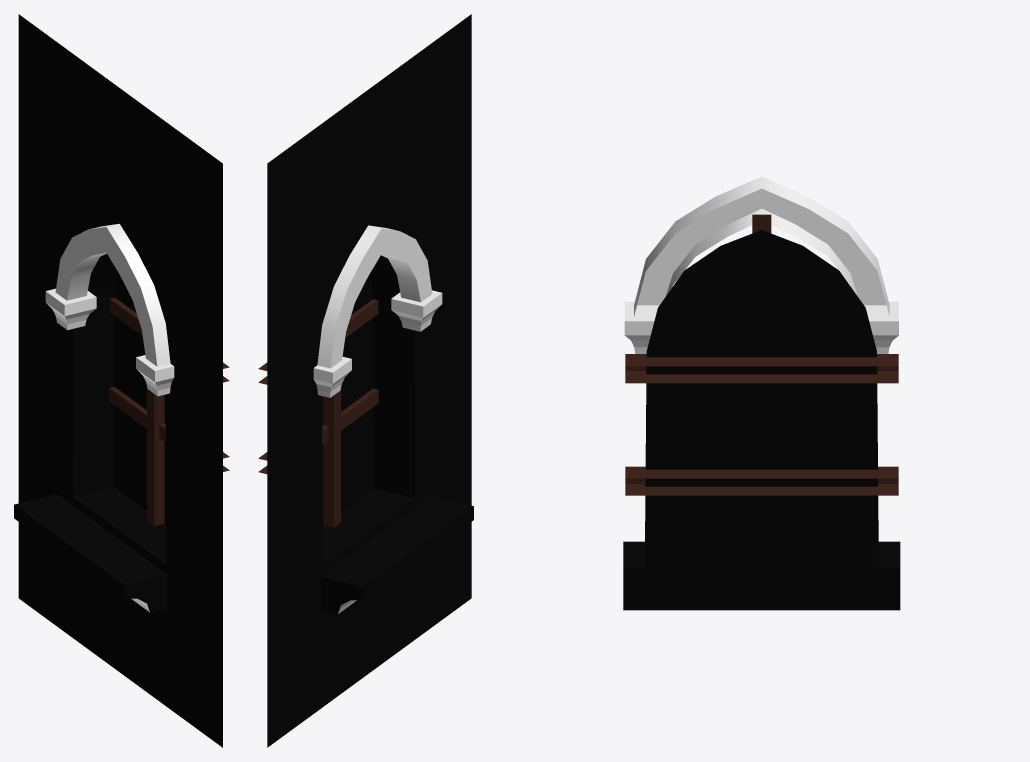
File: standard_window_17.FBX
The picture shows the model from 3 angles, left to right: view 1: azimuth 30°, elevation 25°; view 2: azimuth 150°, elevation 25°; view 3: azimuth 270°, elevation 25°; orthographic projection. The views are drawn at different scales.
Visible parts, largest first — view 1: standard_window_17; view 2: standard_window_17; view 3: standard_window_17.
Boxes of the visible parts, x1,y1,x2,y2 form: standard_window_17: [14, 14, 229, 747]; standard_window_17: [258, 14, 473, 747]; standard_window_17: [623, 176, 900, 610].
Size of the model in its own units: 40.75 by 214 by 136.
